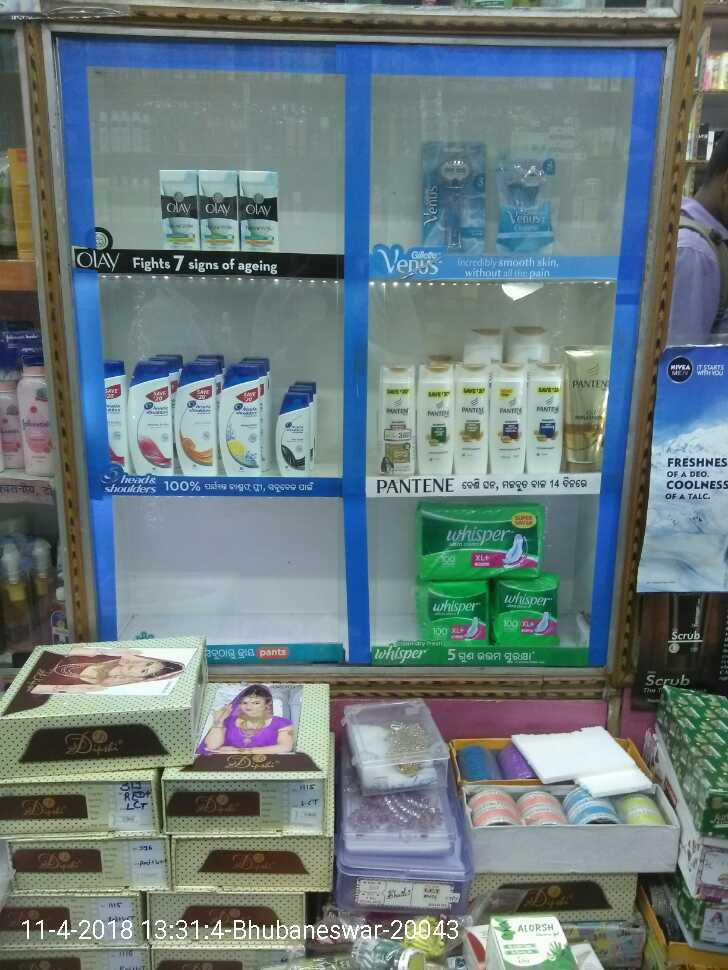venus: (422, 141, 486, 254), (494, 150, 555, 254)
